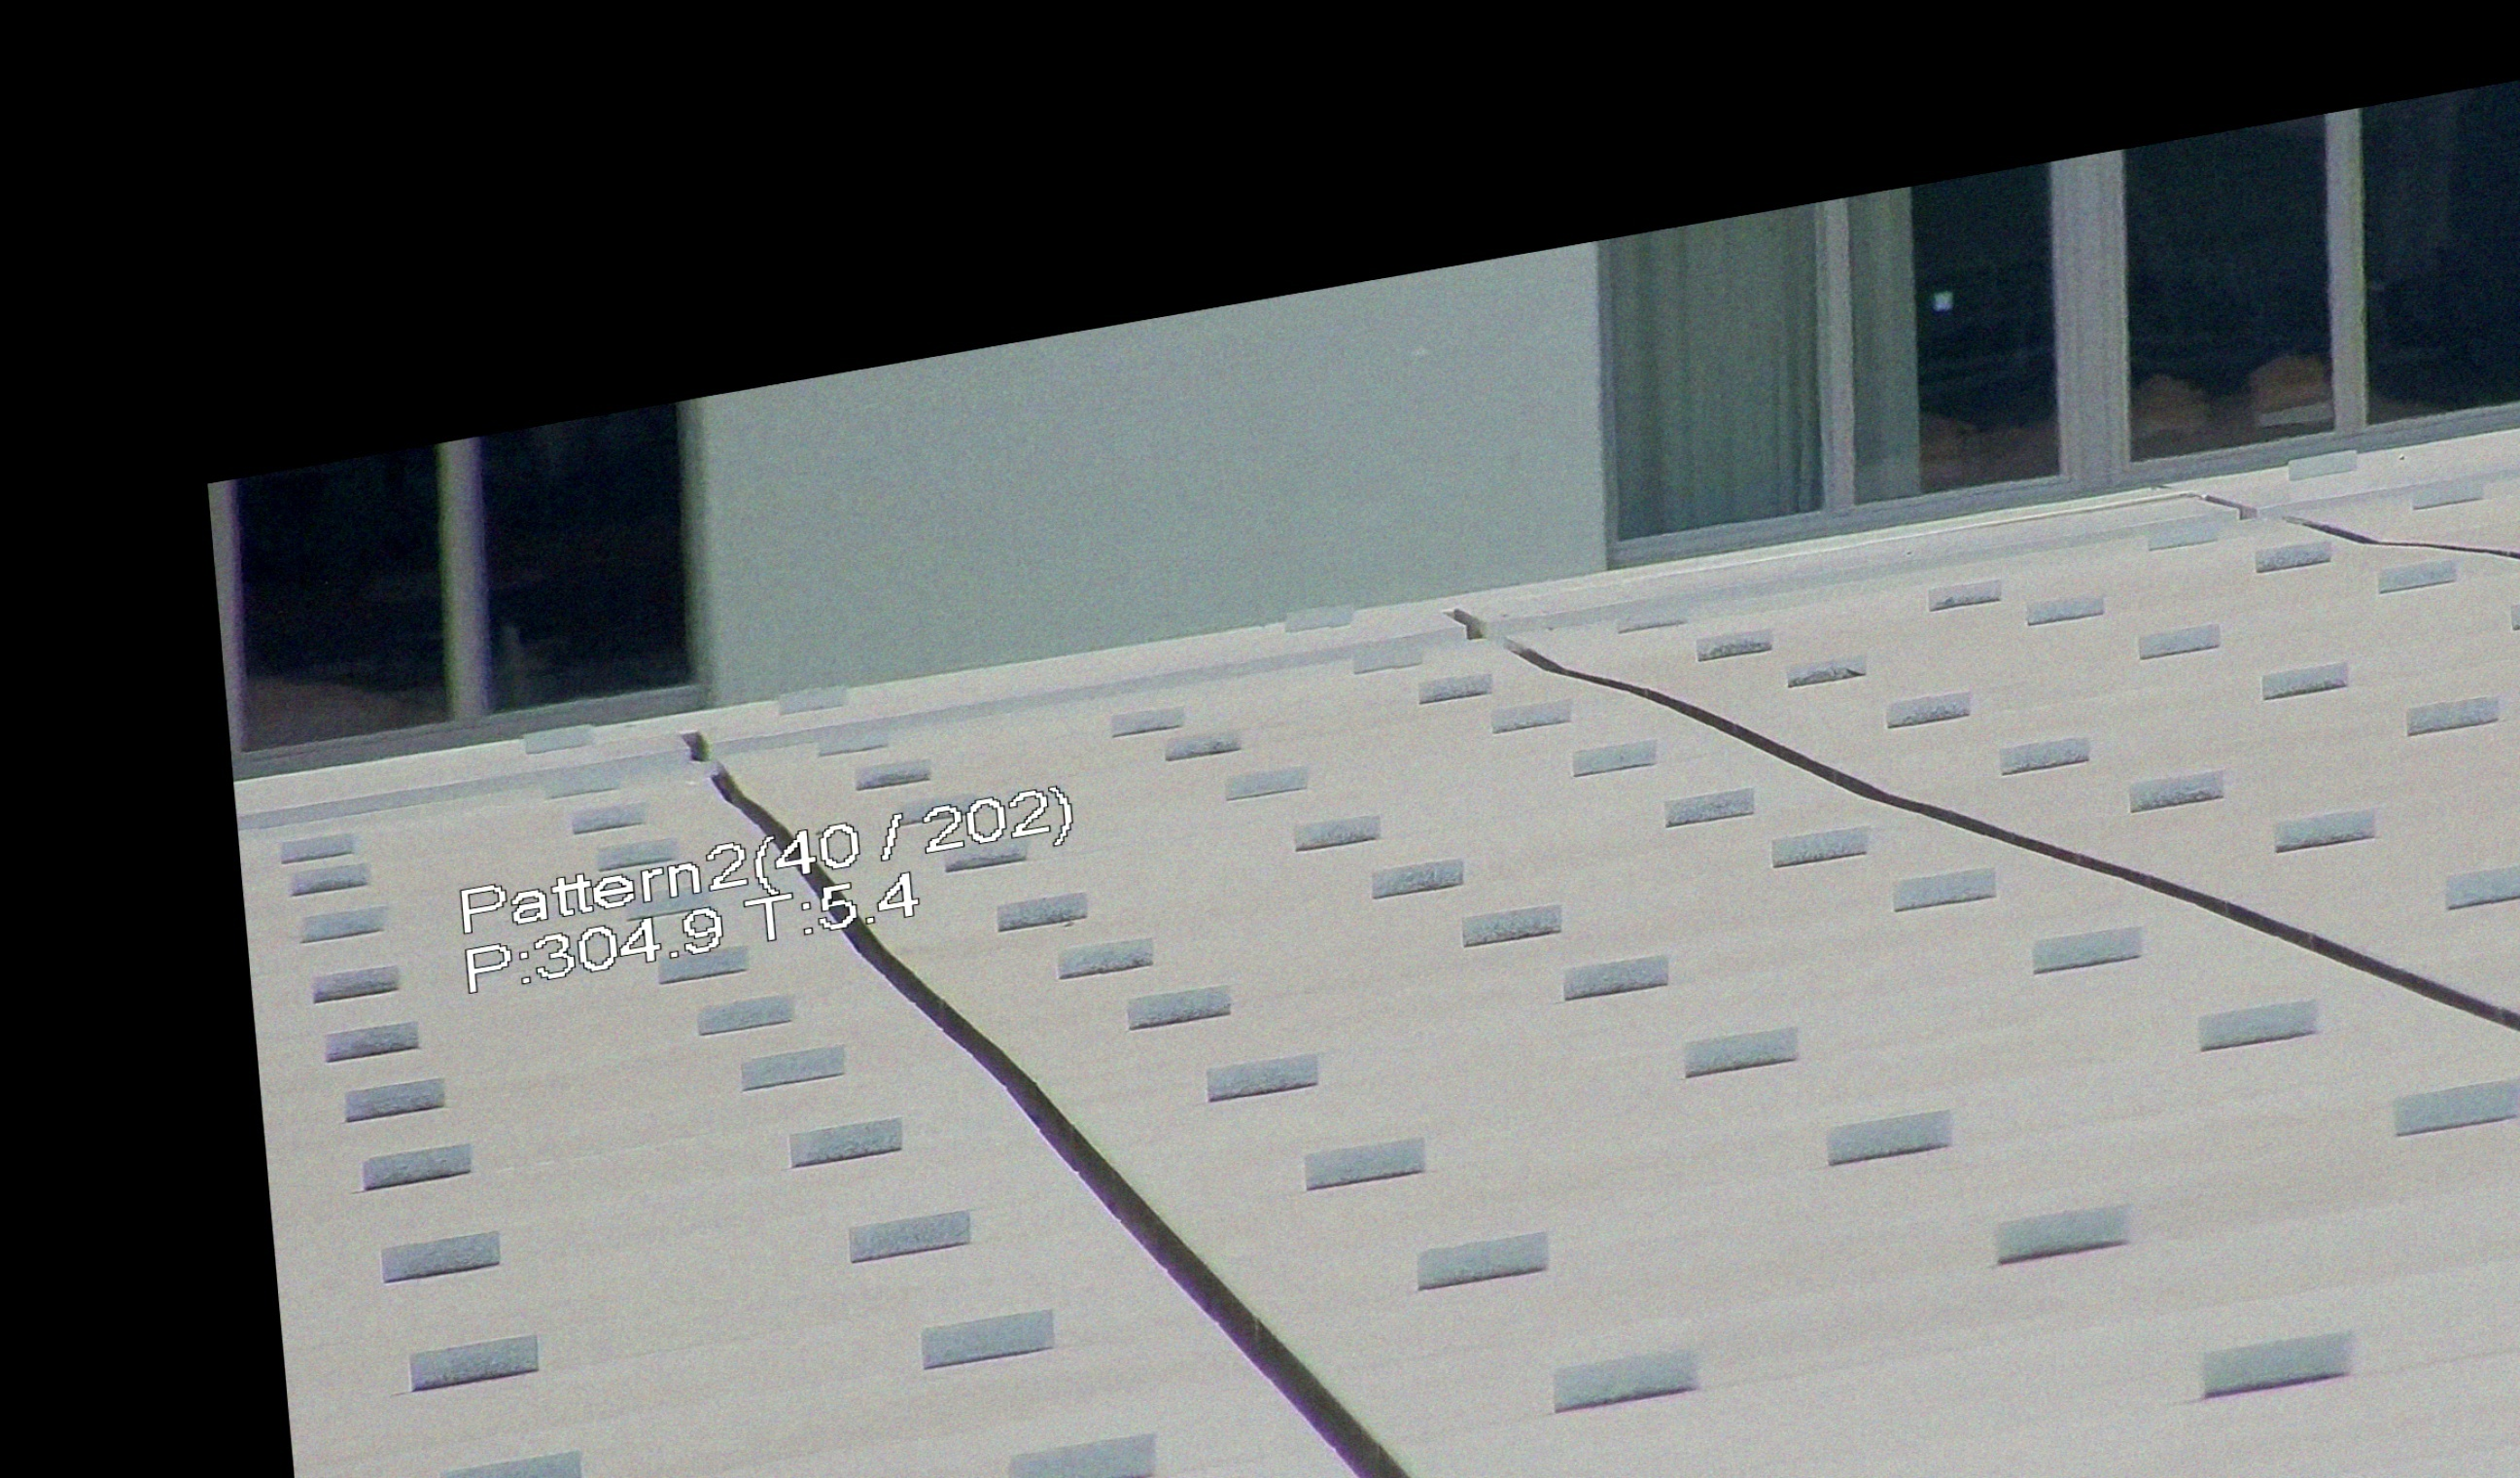Other: (647, 714, 819, 889)
